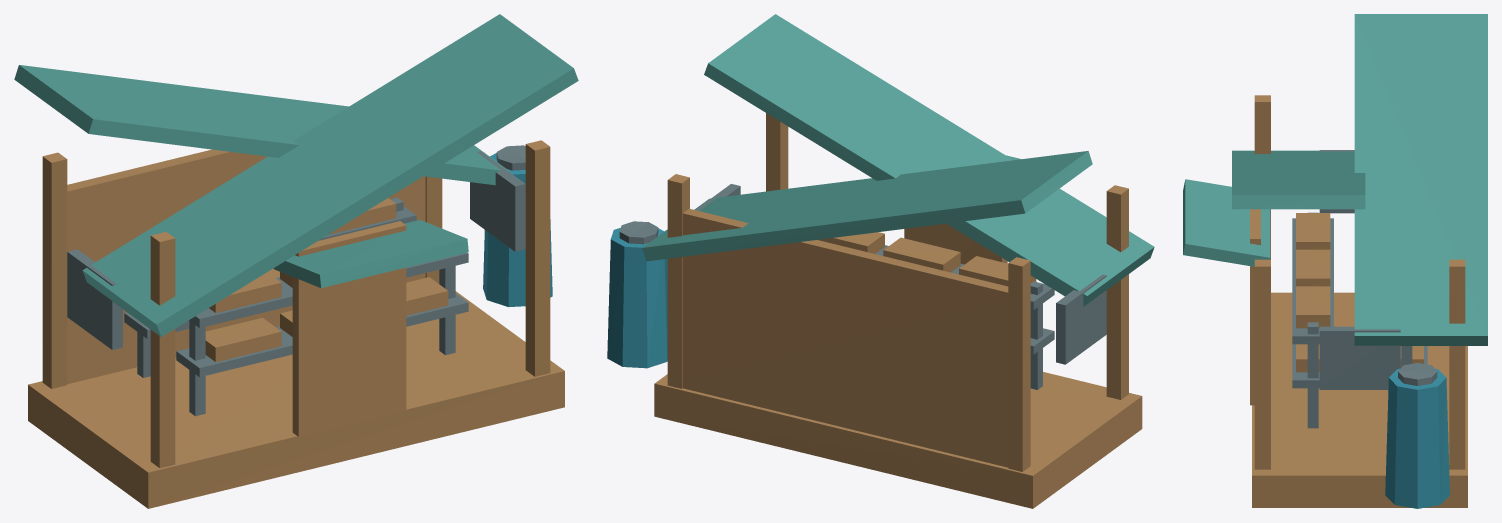
Rendered from Mushroom-House.glb.
3 renders of one model, left to right at view 1: azimuth 30°, elevation 25°; view 2: azimuth 150°, elevation 25°; view 3: azimuth 270°, elevation 25°, orthographic. The views are drawn at different scales.
Visible parts, largest first — view 1: wind-pump-static-mushroom-house-roof, wind-pump-static-mushroom-house-dark-timber, wind-pump-static-mushroom-house-wall, wind-pump-static-mushroom-house-metal, wind-pump-static-mushroom-house-substrate, wind-pump-static-mushroom-house-water-barrel; view 2: wind-pump-static-mushroom-house-dark-timber, wind-pump-static-mushroom-house-roof, wind-pump-static-mushroom-house-wall, wind-pump-static-mushroom-house-water-barrel, wind-pump-static-mushroom-house-metal, wind-pump-static-mushroom-house-substrate; view 3: wind-pump-static-mushroom-house-roof, wind-pump-static-mushroom-house-wall, wind-pump-static-mushroom-house-dark-timber, wind-pump-static-mushroom-house-metal, wind-pump-static-mushroom-house-water-barrel, wind-pump-static-mushroom-house-substrate.
Part boxes in pixels (x1,y1,x2,y2): wind-pump-static-mushroom-house-roof: (14,14,578,336); wind-pump-static-mushroom-house-dark-timber: (42,140,550,468); wind-pump-static-mushroom-house-wall: (28,291,564,508); wind-pump-static-mushroom-house-metal: (67,145,525,416); wind-pump-static-mushroom-house-substrate: (205,198,448,361); wind-pump-static-mushroom-house-water-barrel: (483,153,552,307); wind-pump-static-mushroom-house-dark-timber: (667,113,1128,471); wind-pump-static-mushroom-house-roof: (642,14,1154,306); wind-pump-static-mushroom-house-wall: (654,372,1142,508); wind-pump-static-mushroom-house-water-barrel: (607,228,667,368); wind-pump-static-mushroom-house-metal: (619,184,1106,389); wind-pump-static-mushroom-house-substrate: (818,232,1036,286); wind-pump-static-mushroom-house-roof: (1183,14,1487,345); wind-pump-static-mushroom-house-wall: (1252,292,1467,507); wind-pump-static-mushroom-house-dark-timber: (1250,95,1465,469); wind-pump-static-mushroom-house-metal: (1292,150,1437,428); wind-pump-static-mushroom-house-water-barrel: (1385,368,1449,508); wind-pump-static-mushroom-house-substrate: (1296,213,1423,372).
Bounding box in the file's own units: 2.86 × 1.91 × 1.69.
